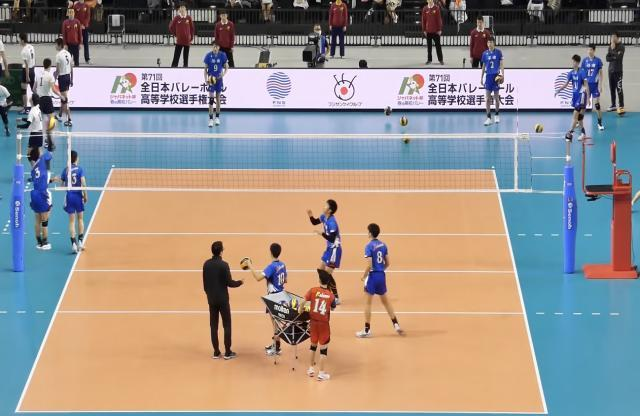spike: (26, 115, 64, 254)
